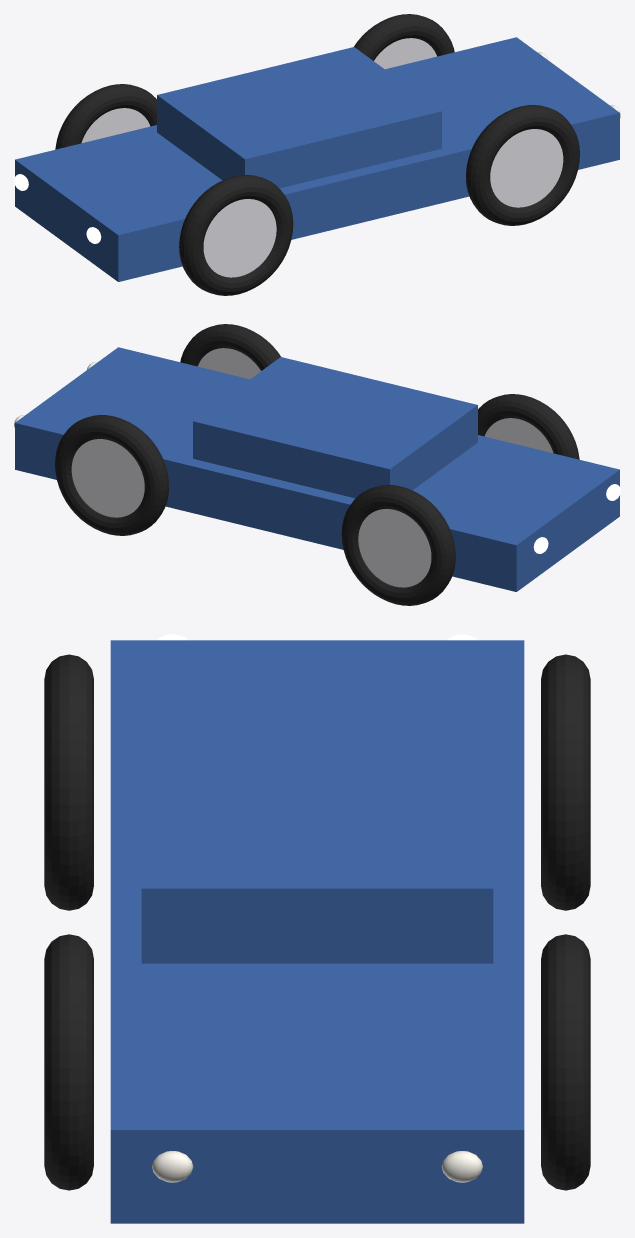
The picture shows the model from 3 angles, top to bottom: view 1: azimuth 30°, elevation 25°; view 2: azimuth 150°, elevation 25°; view 3: azimuth 270°, elevation 25°; orthographic projection. The views are drawn at different scales.
Size of the model in its own units: 5.92 by 1.24 by 2.64.
